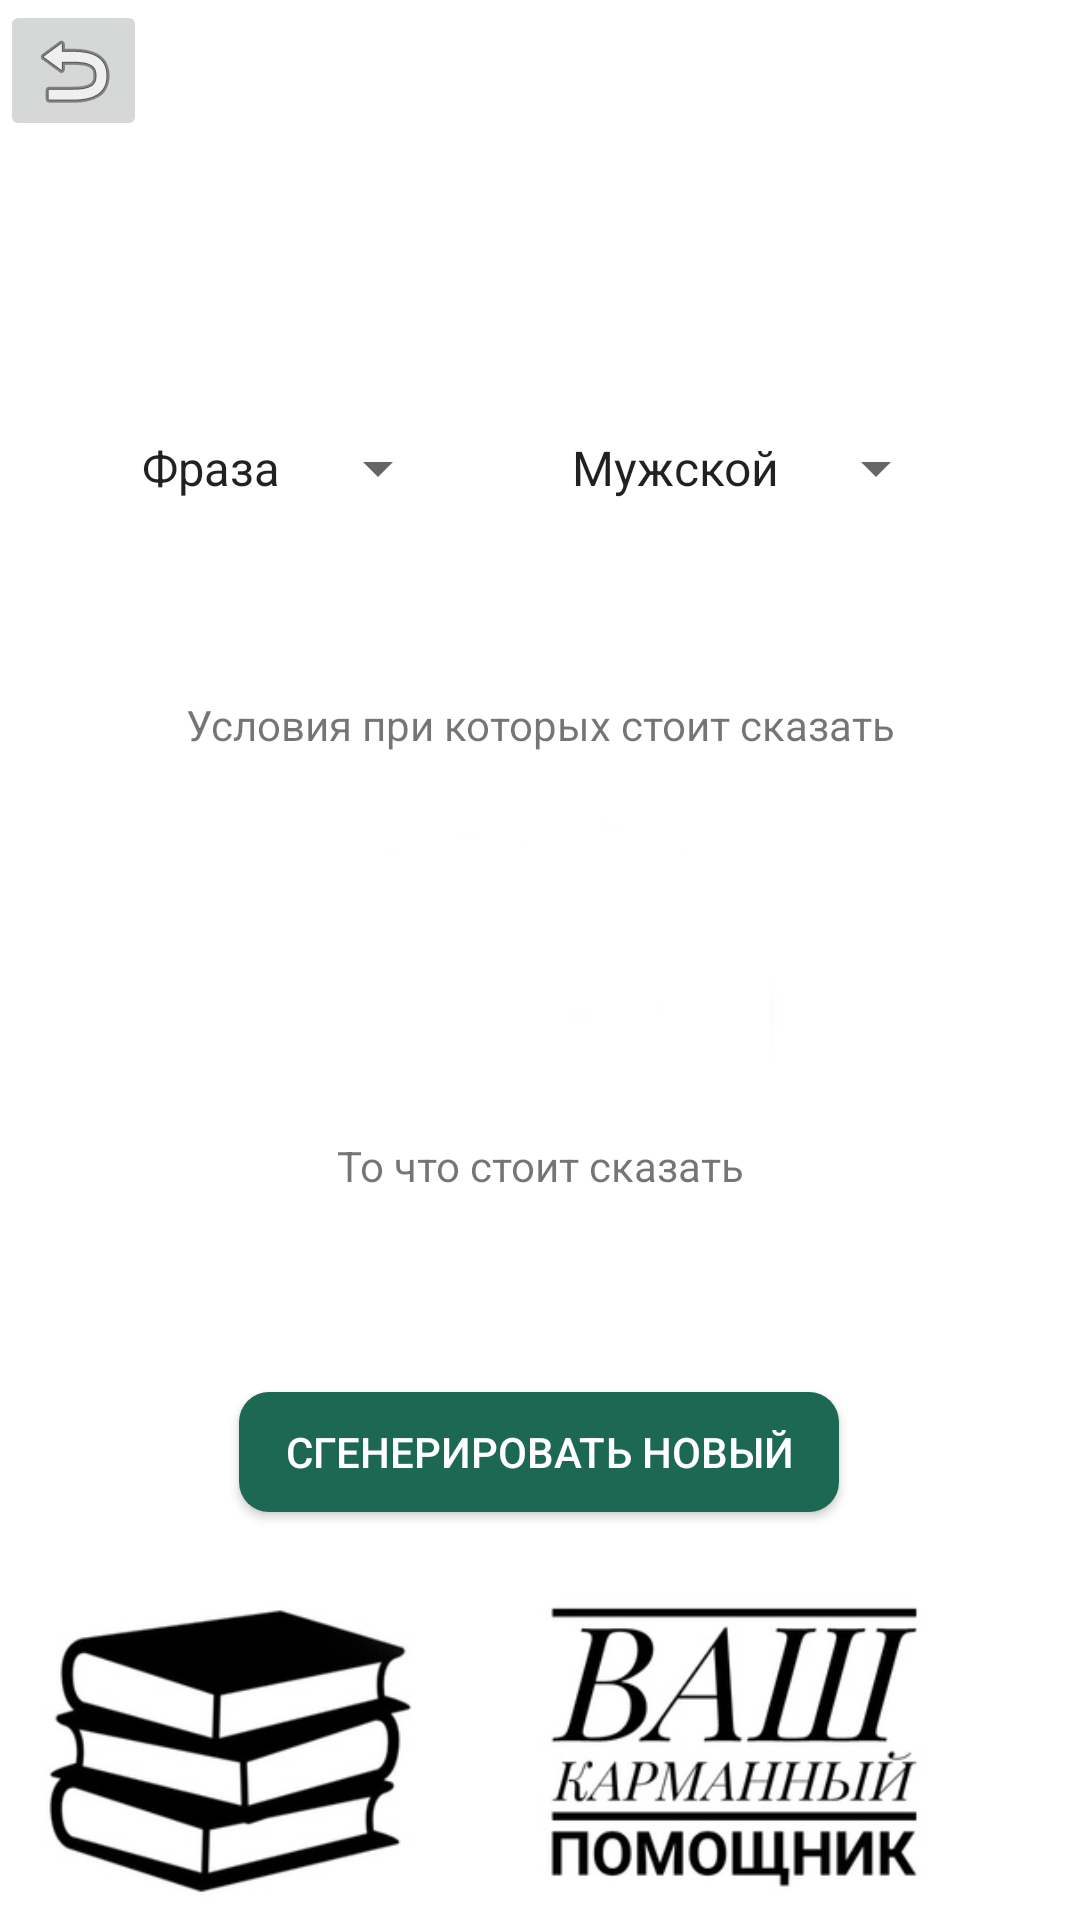

Named icons in this screenshot (1080 x 1920) and their bounding boxes, (x1, y1, x2, y2):
revert: (12, 18, 135, 123)
